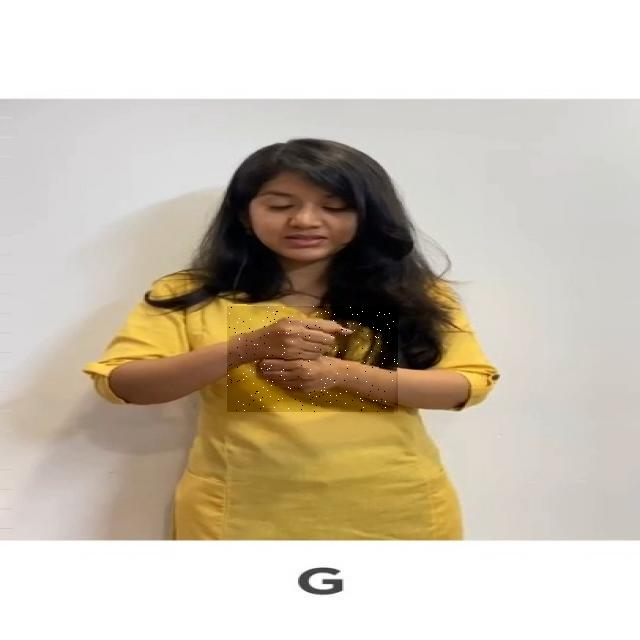G: (227, 306, 398, 412)
